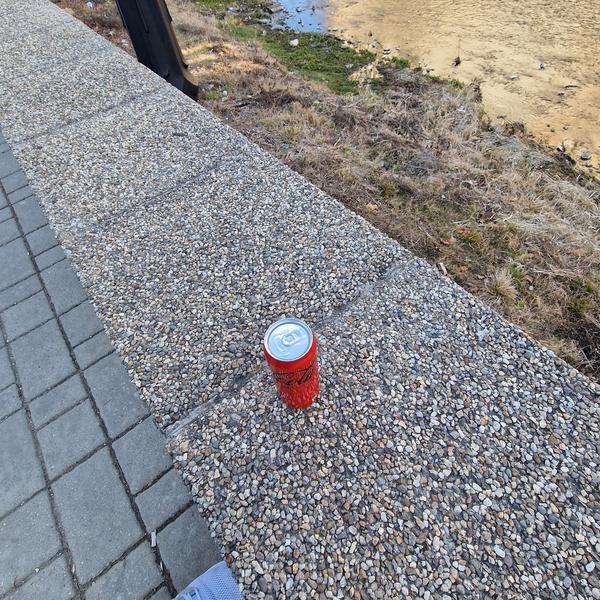can: (257, 310, 331, 416)
